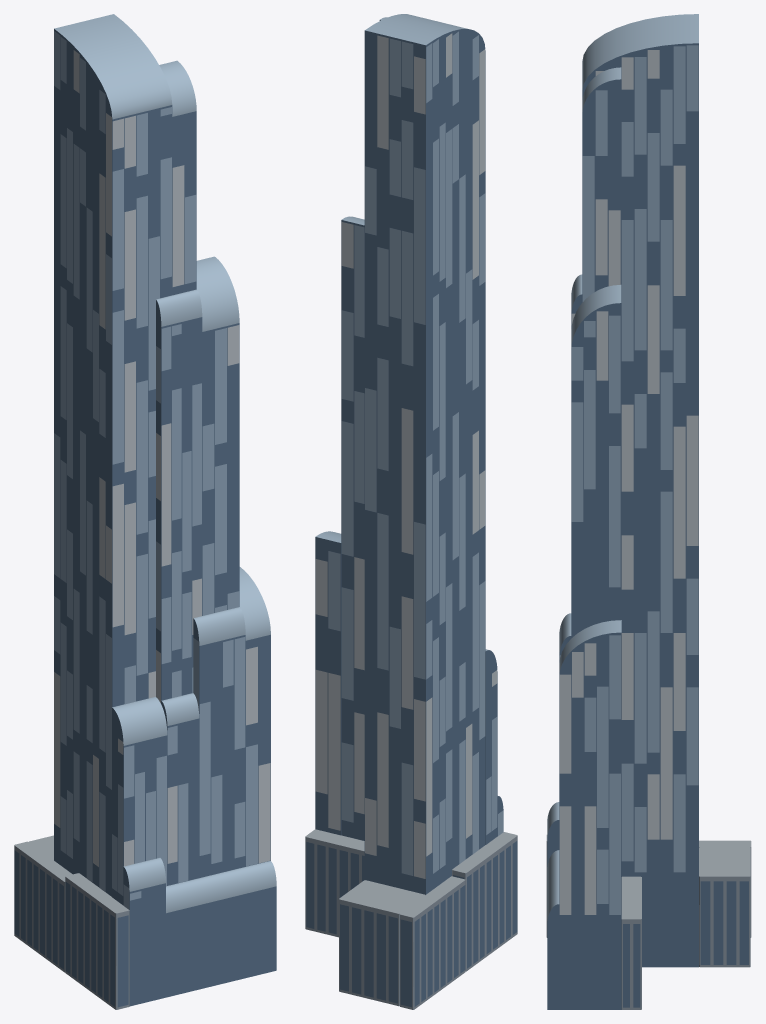
File: nyc-one57.glb
3 views of the same model, side by side, from view 1: azimuth 30°, elevation 25°; view 2: azimuth 150°, elevation 25°; view 3: azimuth 270°, elevation 25° (orthographic). The views are drawn at different scales.
Visible parts, largest first — view 1: One57; view 2: One57; view 3: One57.
Part boxes in pixels (x1,y1,x2,y2): One57: (14,14,276,1009); One57: (305,14,517,1009); One57: (546,14,751,1009).
Size of the model in its own units: 56.08 by 306 by 61.58.
